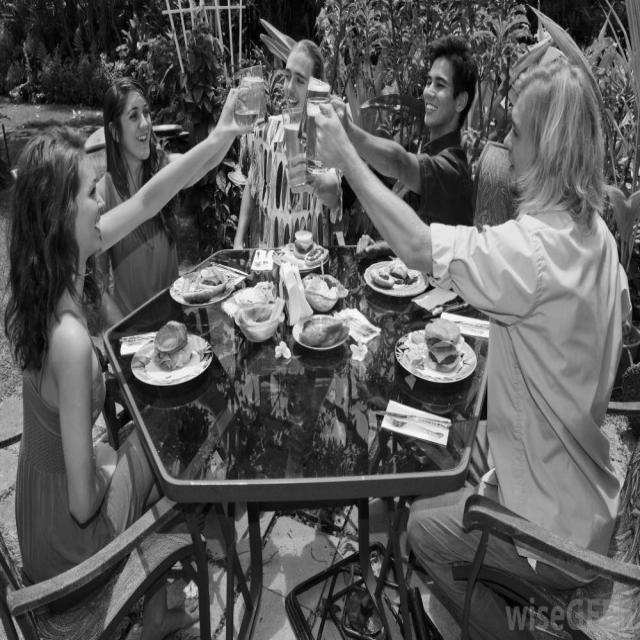person: (340, 37, 640, 640), (2, 119, 144, 636), (360, 25, 496, 219), (235, 17, 340, 247), (115, 56, 176, 316)
